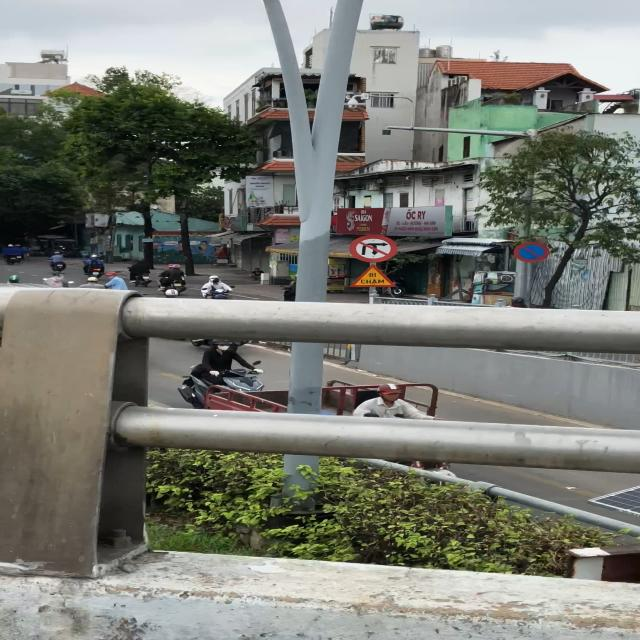Bien bao cam re phai va quay dau: (346, 233, 402, 264)
